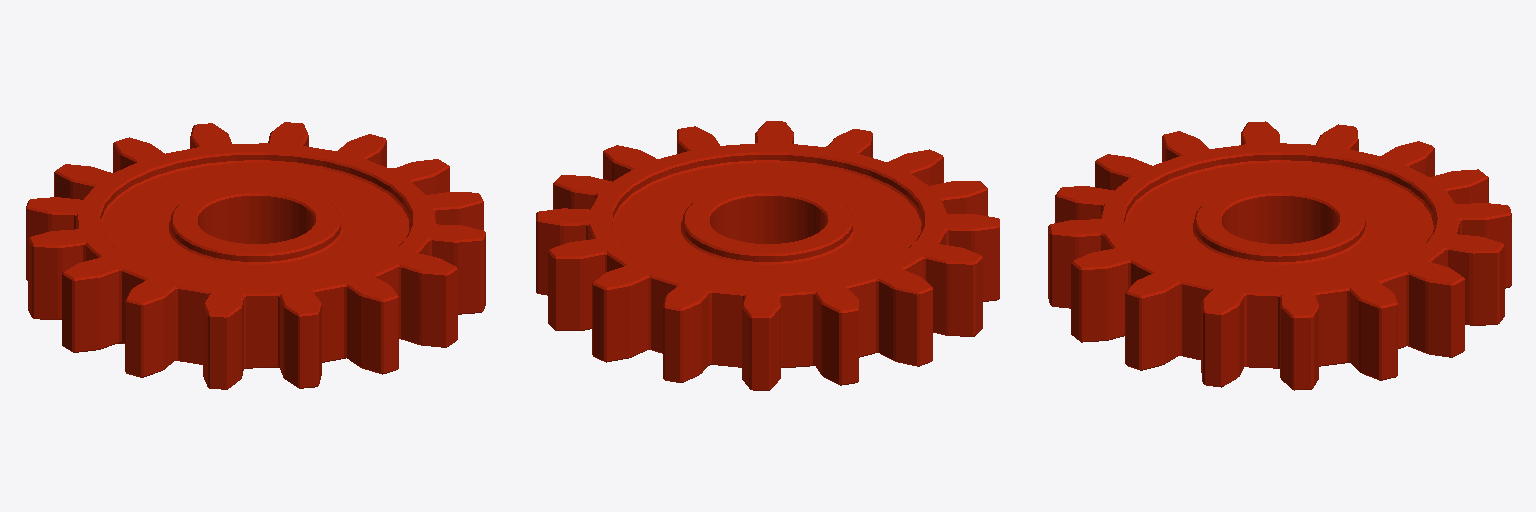
The model's file is gear.obj.
3 renders of one model, left to right at view 1: azimuth 30°, elevation 25°; view 2: azimuth 150°, elevation 25°; view 3: azimuth 270°, elevation 25°, orthographic.
Visible parts, largest first — view 1: Circle; view 2: Circle; view 3: Circle.
Part boxes in pixels (x1,y1,x2,y2): Circle: (26,122,485,389); Circle: (536,121,999,390); Circle: (1048,121,1511,390).
Bounding box in the file's own units: 2.57 × 0.4578 × 2.57.